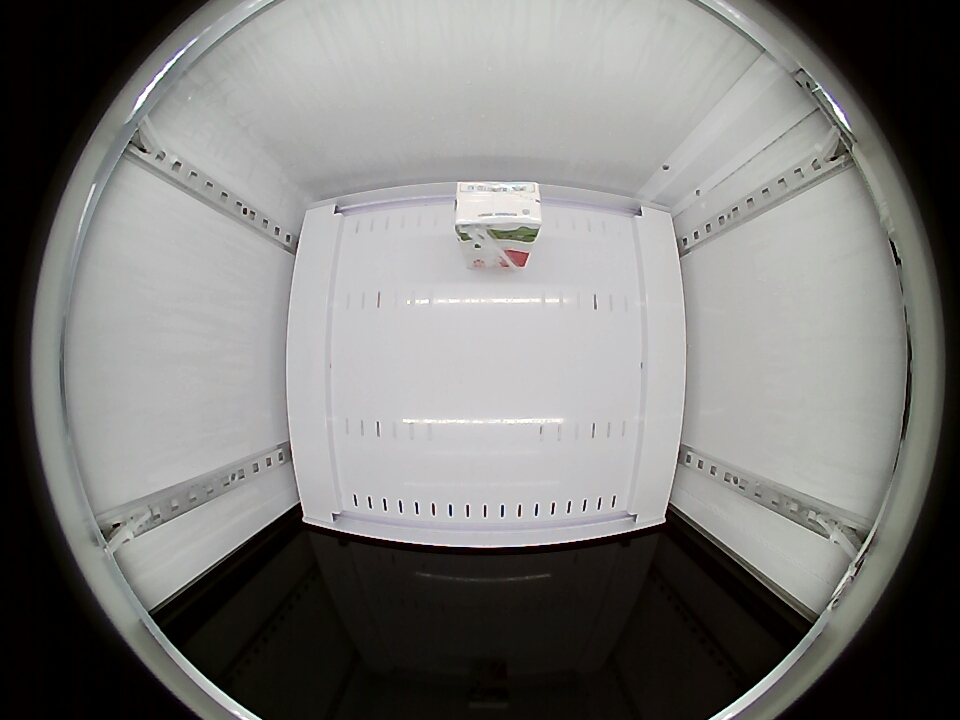mengniu: (453, 181, 543, 239)
